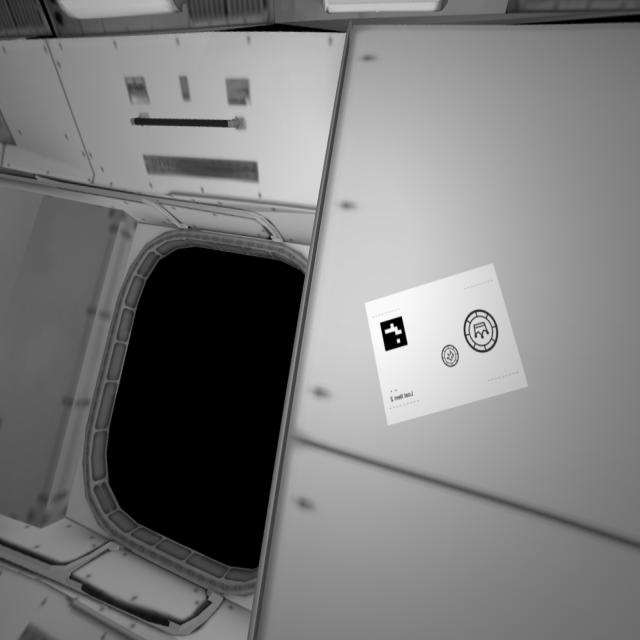coin: (463, 308, 504, 355), (440, 342, 463, 373)
